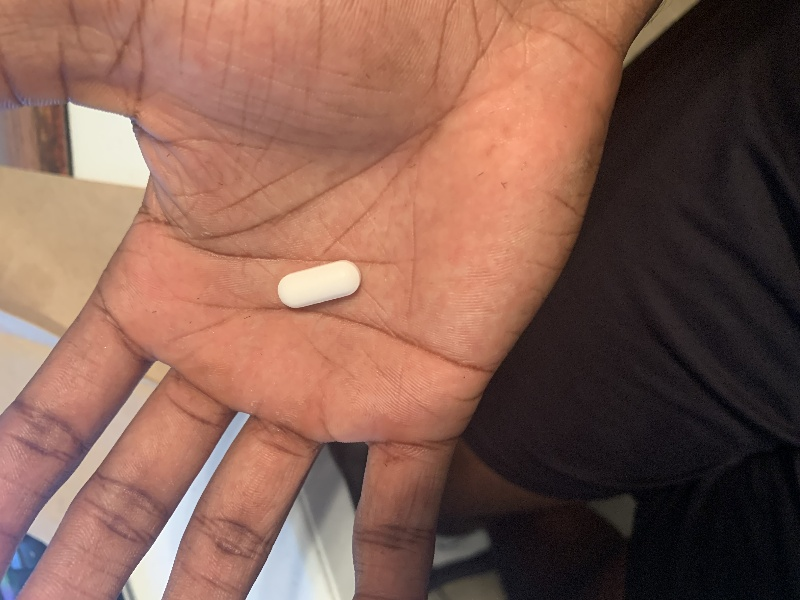Tylenol: (275, 258, 365, 314)
